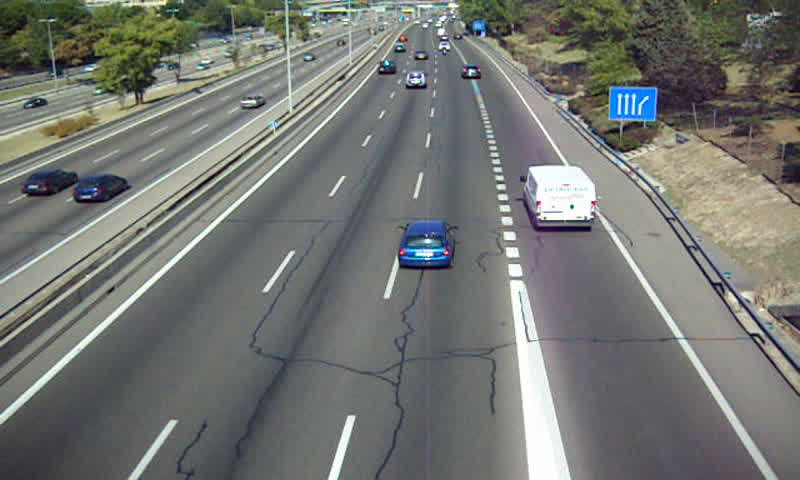car: (397, 220, 454, 269), (405, 71, 427, 88), (378, 59, 397, 77), (460, 65, 484, 79)
van: (520, 165, 598, 230)
